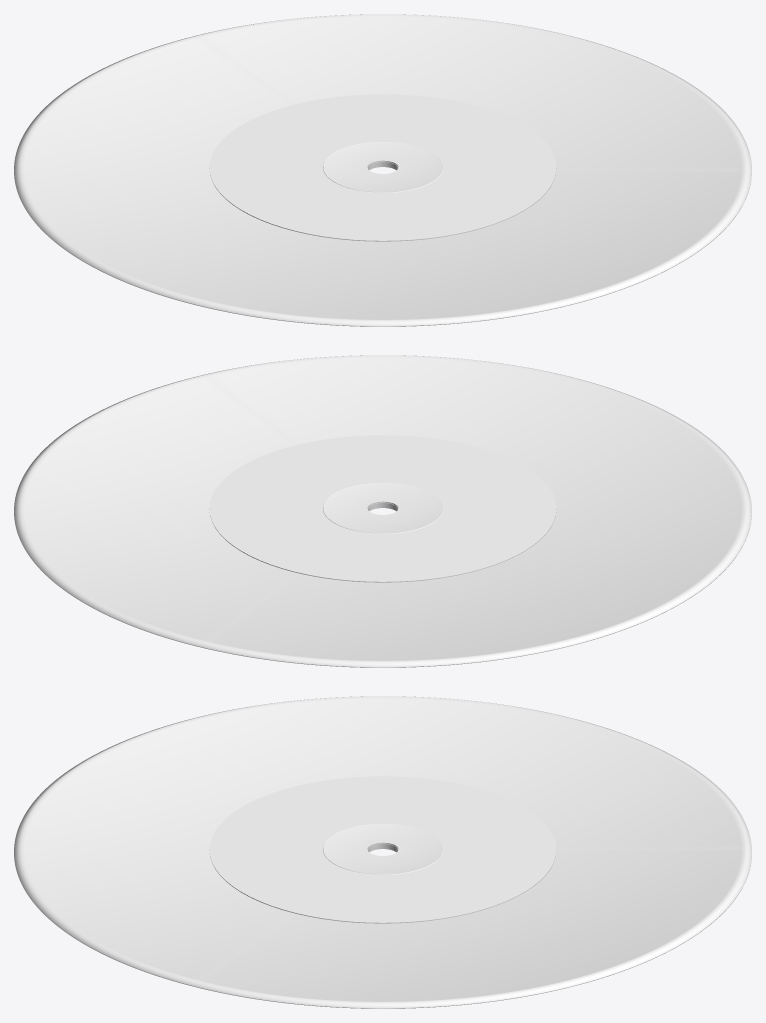
The model's file is vinyl_7_small_heavy_with_labels.dae.
3 renders of one model, top to bottom at view 1: azimuth 30°, elevation 25°; view 2: azimuth 150°, elevation 25°; view 3: azimuth 270°, elevation 25°, orthographic.
Parts seen in each view (by area): view 1: vinyl, label; view 2: vinyl, label; view 3: vinyl, label.
Part boxes in pixels (<box>): vinyl: <box>14,14,751,326</box>; label: <box>209,94,556,241</box>; vinyl: <box>14,355,751,667</box>; label: <box>209,435,556,582</box>; vinyl: <box>14,696,751,1008</box>; label: <box>209,776,556,923</box>.
Bounding box in the file's own units: 17 × 0.1709 × 17.
Materials: 2 (2 with a texture image).
